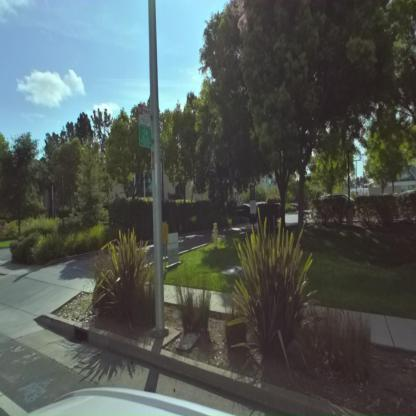sign: (138, 99, 156, 152)
